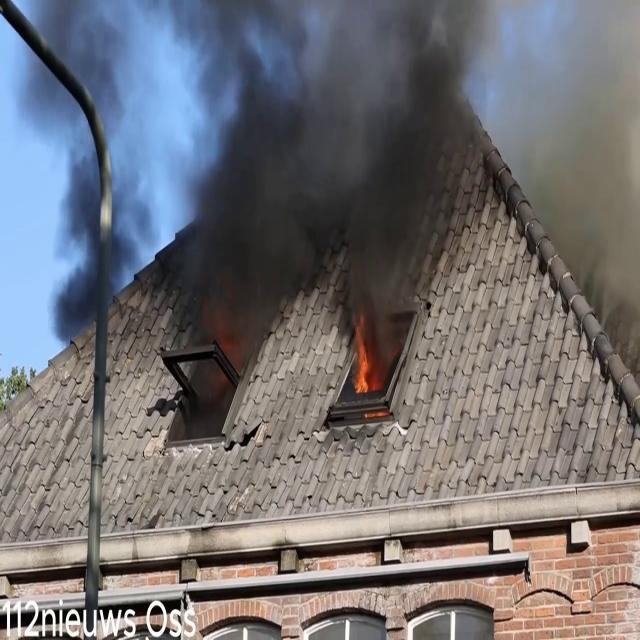Fire: (350, 310, 380, 400)
Smoke: (167, 0, 639, 368), (5, 0, 161, 334)
